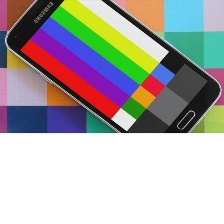phone: (2, 0, 222, 155)
